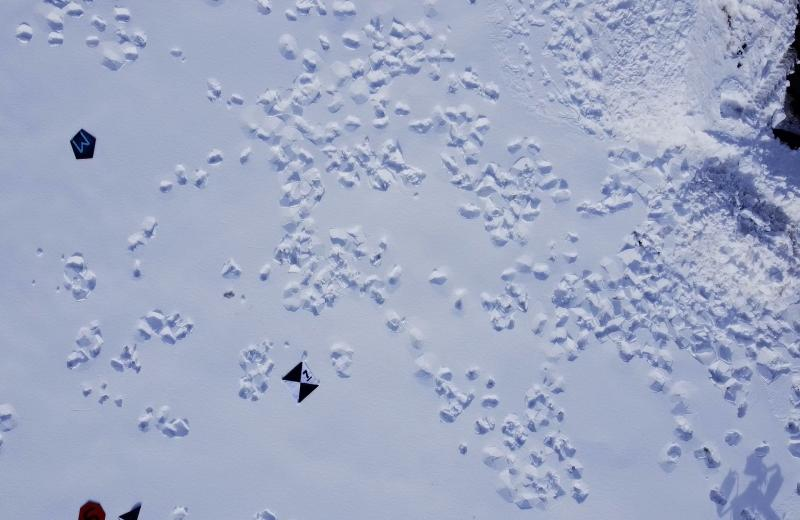Octagon: (76, 496, 108, 520)
Pentagon: (66, 125, 101, 165)
